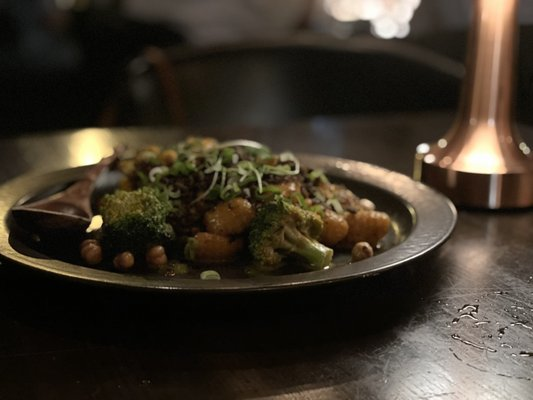curry: (247, 194, 334, 271), (97, 183, 177, 248)
